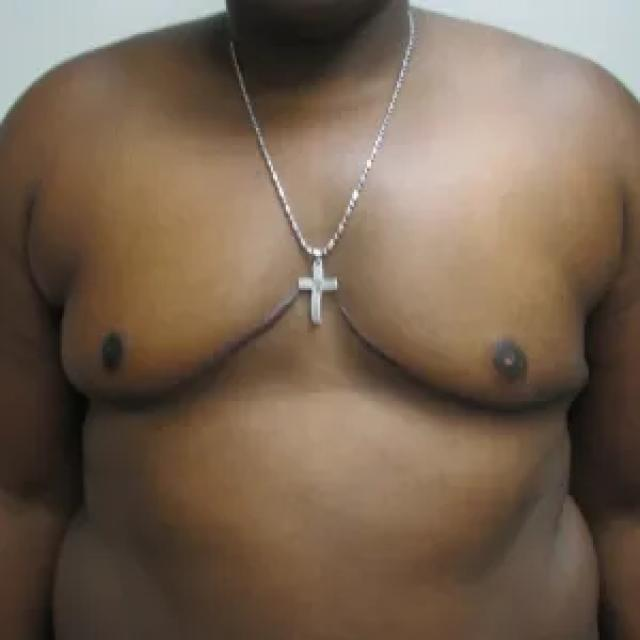Seno herido: (339, 229, 599, 421), (51, 229, 304, 422)
